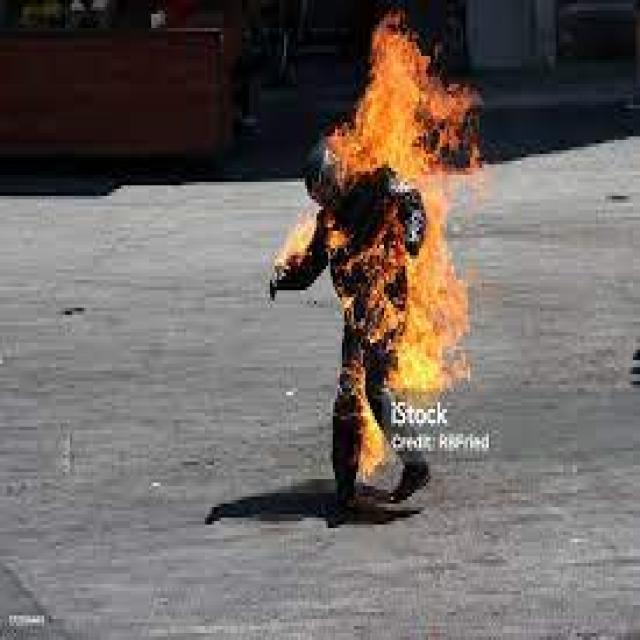fire: (272, 24, 510, 502)
